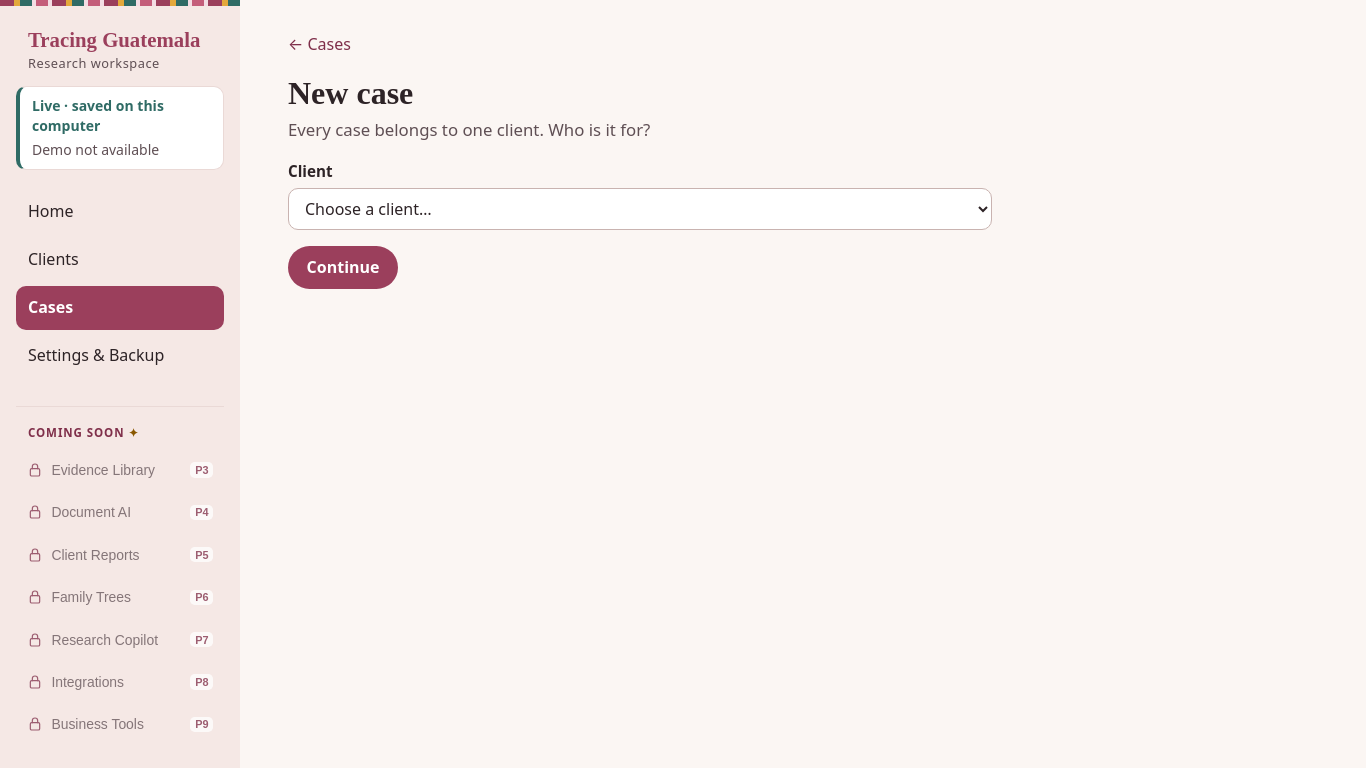
Test: creating and editing › asks which client when none is given, offering only active clients
The width and height of the screenshot is (1366, 768).
Select "Daniel Ochoa" in the dropdown labelled "Client" at (640,209), box [288, 188, 992, 230]
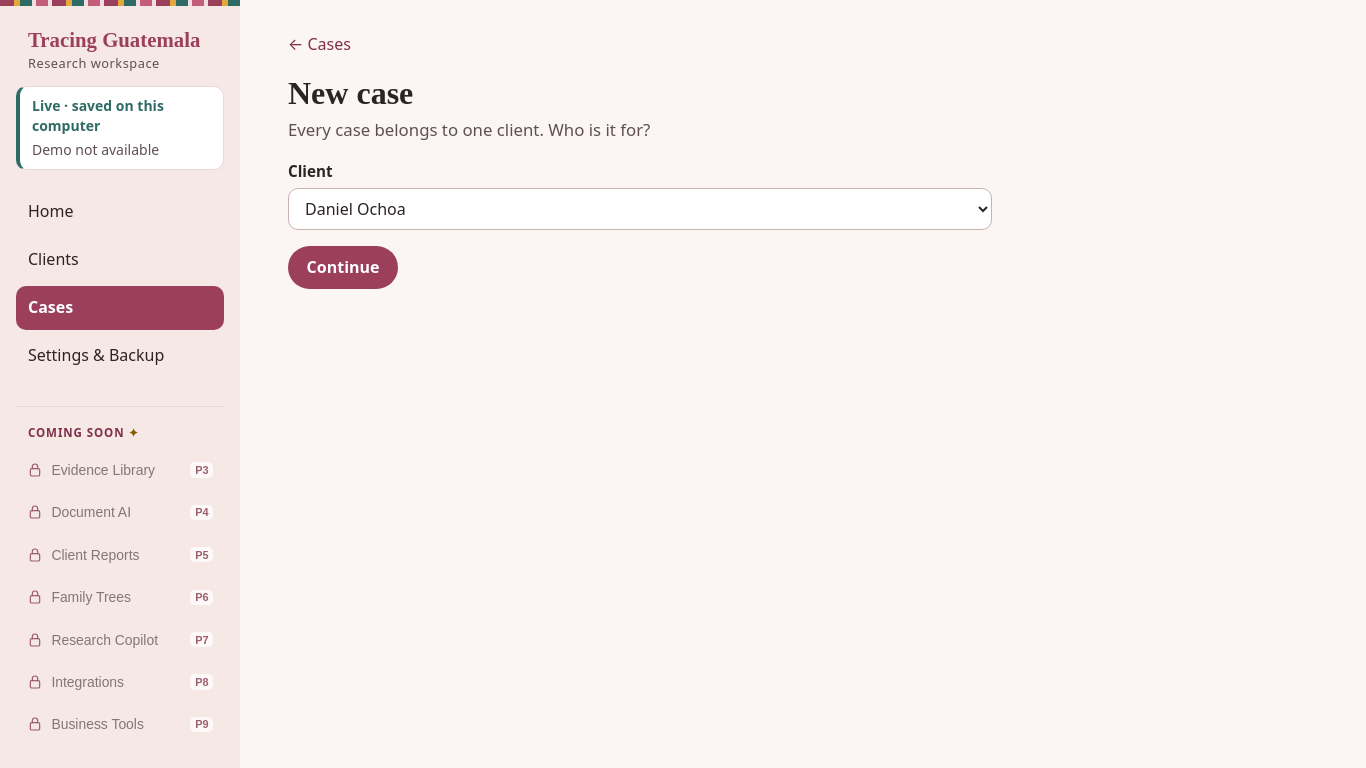
Click the button "Continue" at (343,267), box [288, 246, 398, 289]
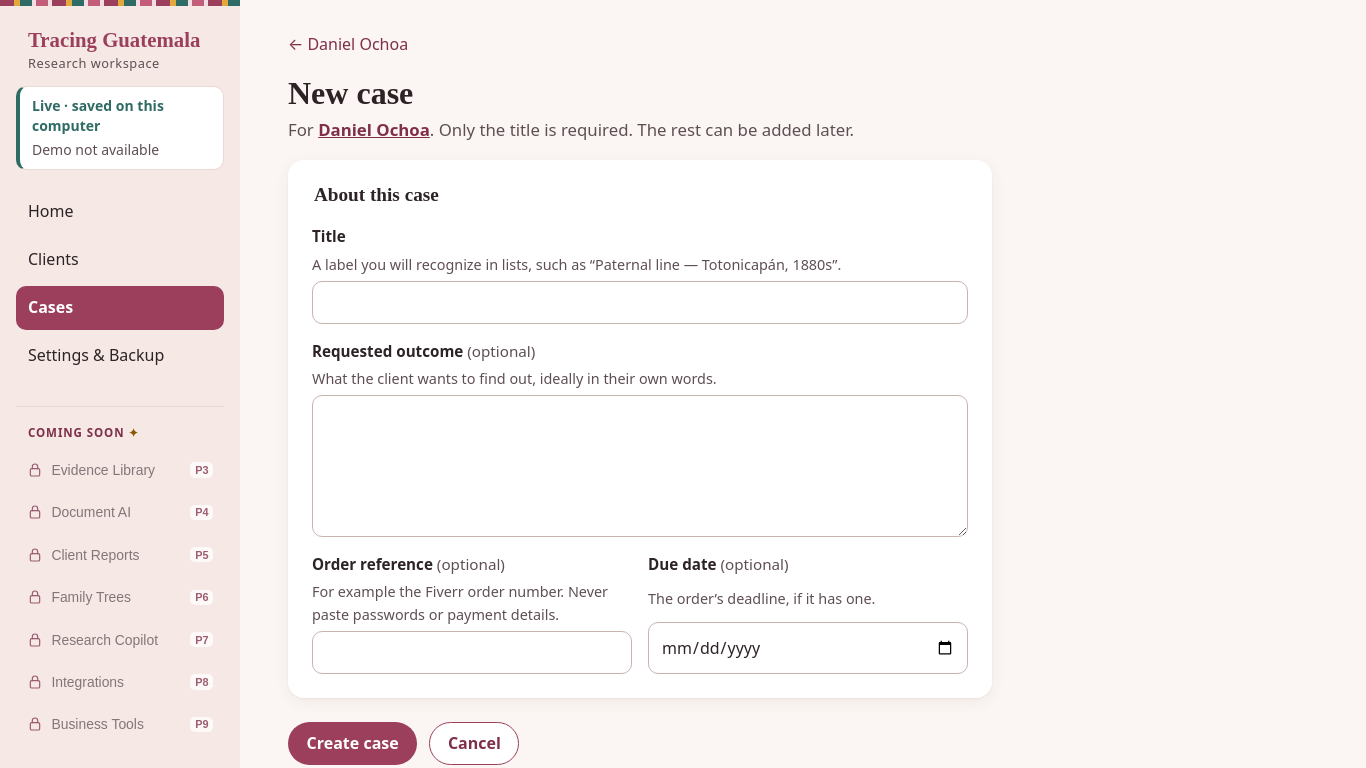
Expected: the field labelled "Title" is shown, [312, 281, 968, 324]
Expected: the text "Daniel Ochoa" is shown, [318, 118, 430, 141]
